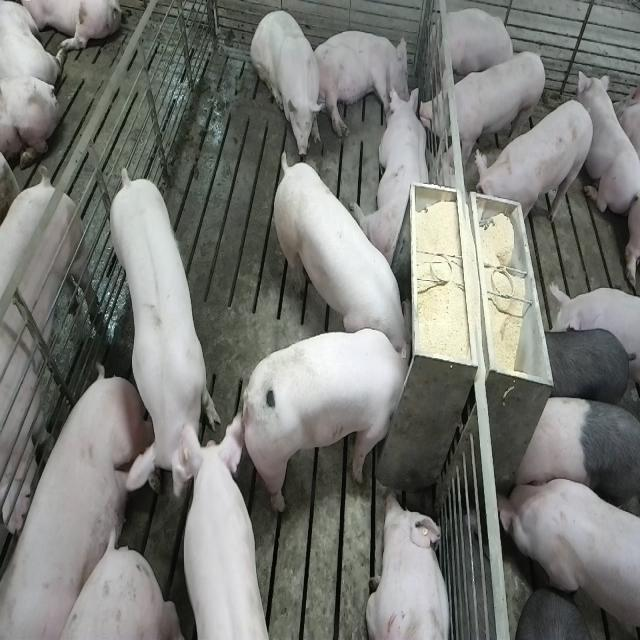Feeding: (247, 328, 420, 516), (270, 144, 409, 356)
Lateral_lying: (3, 366, 163, 640), (311, 30, 410, 139)
Sitting: (251, 5, 323, 158)
Standing: (108, 167, 222, 501), (0, 178, 98, 550), (498, 474, 638, 640), (170, 417, 272, 640), (512, 394, 638, 522), (475, 97, 596, 230), (421, 47, 548, 161), (532, 324, 636, 412)
Sternal_lying: (356, 85, 432, 268), (366, 490, 453, 640), (578, 71, 638, 223), (434, 7, 516, 88)
